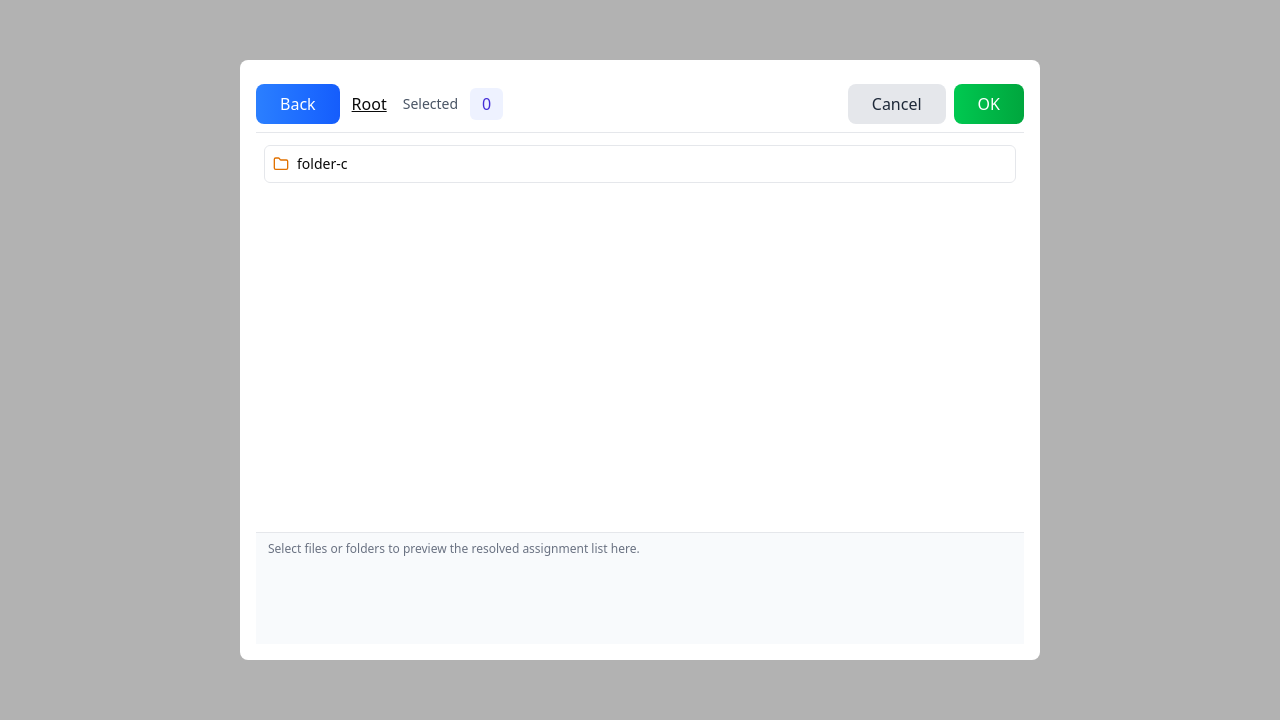
it: InAppExplorer › shows folder preview with resolved file count and sample paths
Click the text "folder-c": {"x": 322, "y": 164} [297, 154, 347, 174]
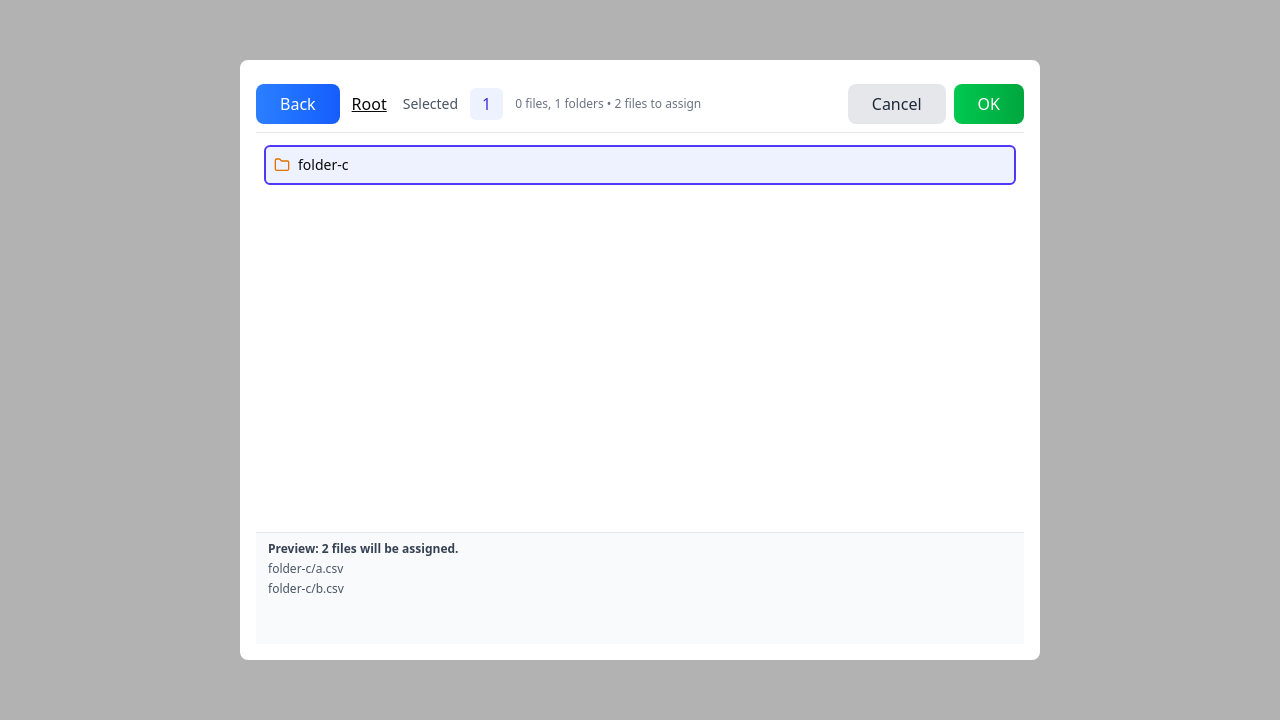
Check: the text "Preview: 2 files will be assigned." is shown, box [268, 540, 458, 557]
Check: the text "folder-c/a.csv" is shown, box [268, 560, 343, 577]
